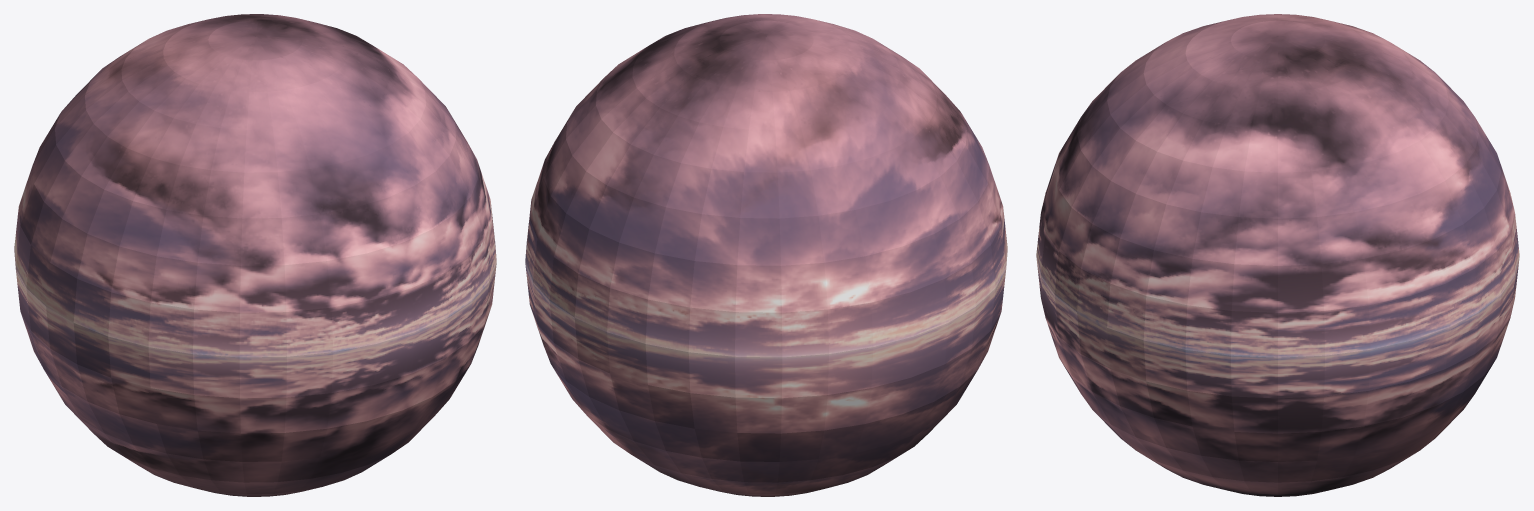
File: stage02.glb
The picture shows the model from 3 angles, left to right: view 1: azimuth 30°, elevation 25°; view 2: azimuth 150°, elevation 25°; view 3: azimuth 270°, elevation 25°; orthographic projection.
Parts seen in each view (by area): view 1: Sphere; view 2: Sphere; view 3: Sphere.
Part boxes in pixels (x1,y1,x2,y2): Sphere: (14,14,496,496); Sphere: (525,14,1007,496); Sphere: (1036,14,1519,496).
Bounding box in the file's own units: 500 × 500 × 500.
8 materials, 1 textured.
